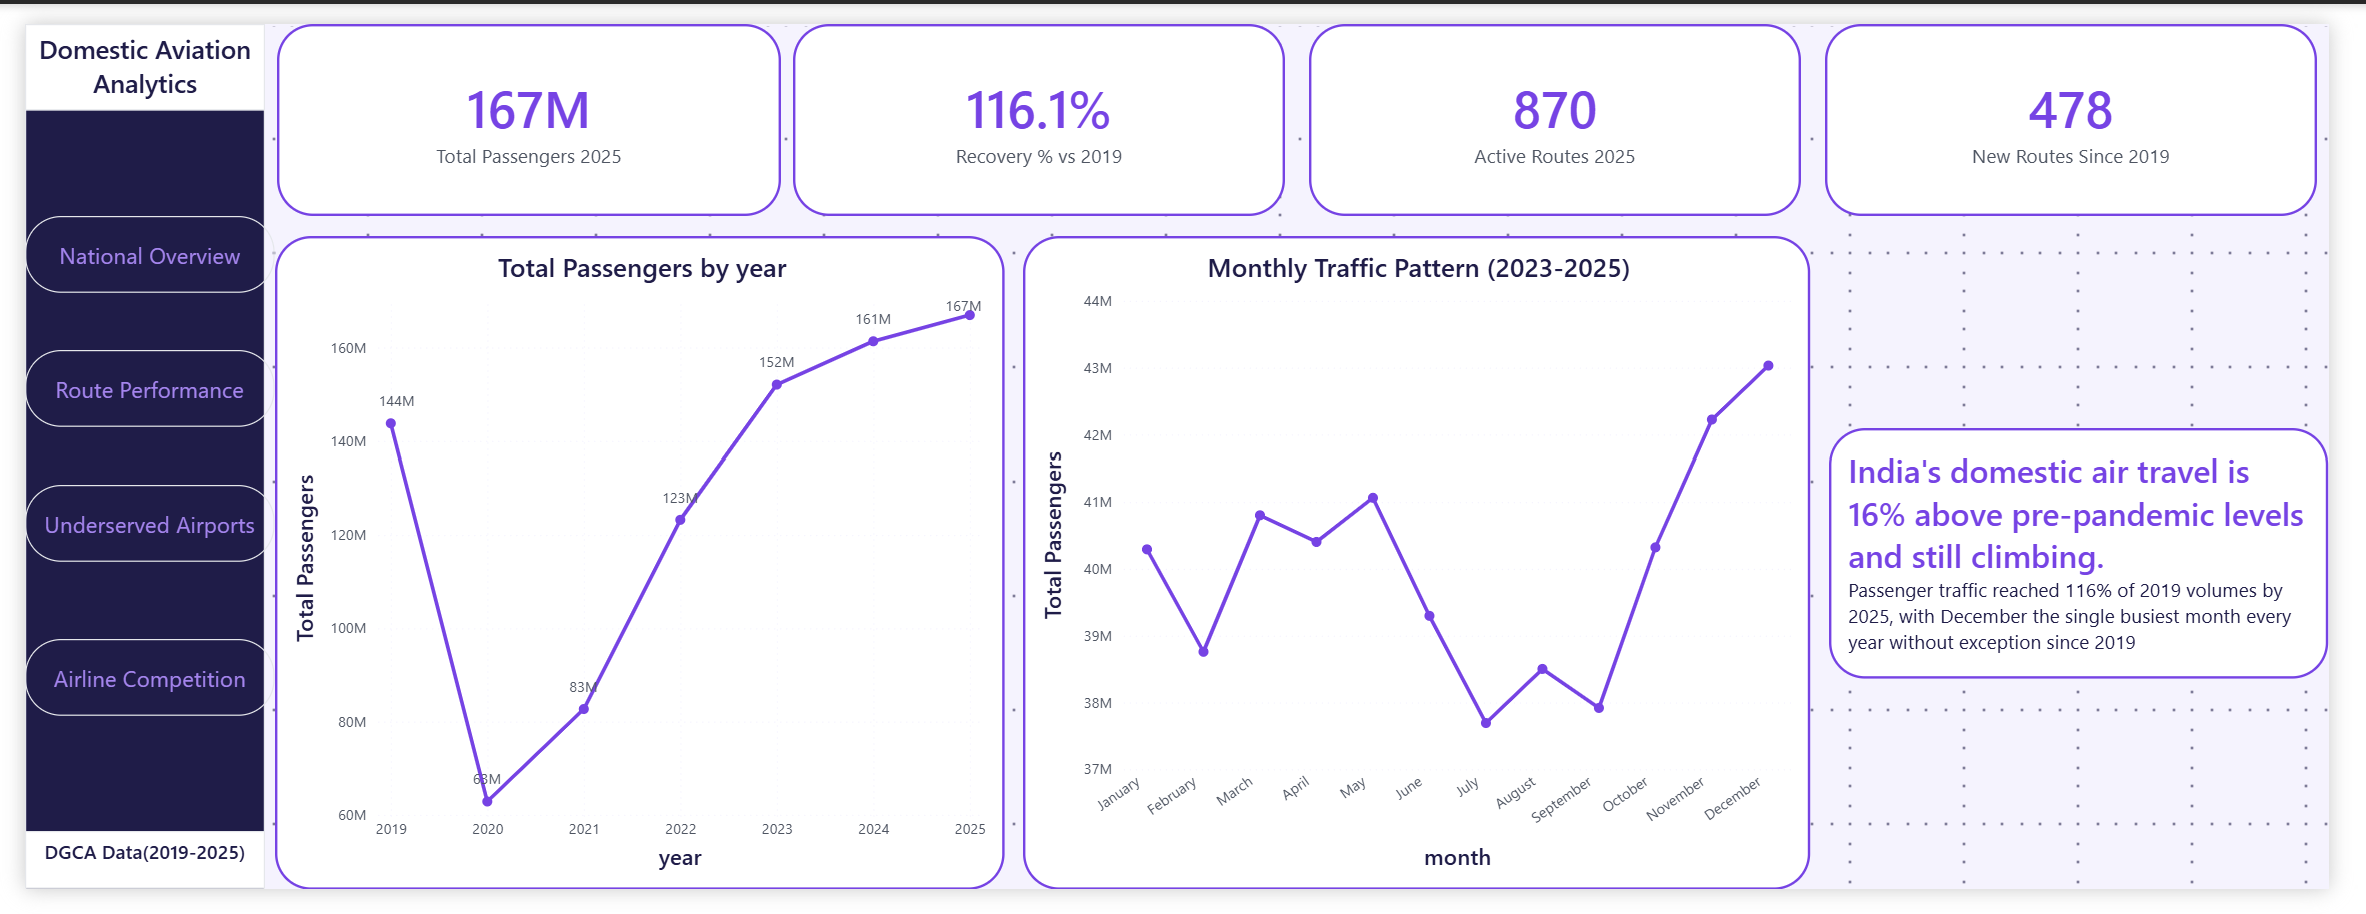

What the dashboard file says about the page in this screenshot:
{"tool":"powerbi","page":{"name":"Page 1","canvas":[1920,720],"ordinal":0},"visuals":[{"type":"shape","box":[0,0,200,768],"z":0},{"type":"actionButton","title":"Route Performance","box":[0,272,208,64],"z":1000},{"type":"actionButton","box":[0,160,208,64],"z":2000},{"type":"actionButton","title":"Route Performance","box":[0,384,208,64],"z":3000},{"type":"actionButton","title":"Route Performance","box":[0,512,208,64],"z":4000},{"type":"card","title":"Recovery % vs 2019","fields":{"Values":["master_citypair.Recovery % vs 2019"]},"box":[640,0,410,160],"z":5000},{"type":"card","fields":{"Values":["master_citypair.Active Routes 2025"]},"box":[1070,0,410,160],"z":6000},{"type":"card","fields":{"Values":["master_citypair.New Routes Since 2019"]},"box":[1500,0,410,160],"z":7000},{"type":"card","title":"Total Passengers 2025","fields":{"Values":["master_citypair.Total Passengers 2025"]},"box":[210,0,420,160],"z":8000},{"type":"lineChart","fields":{"Category":["master_citypair.year"],"Y":["master_citypair.Total Passengers"]},"box":[208,176,608,544],"z":9000},{"type":"lineChart","title":"Monthly Traffic Pattern (2023-2025)","fields":{"Category":["master_citypair.month"],"Y":["master_citypair.Total Passengers"]},"box":[832,176,656,544],"z":10000},{"type":"textbox","box":[1504,336,416,208],"z":11000},{"type":"textbox","box":[0,0,200,72],"z":12000},{"type":"textbox","box":[0,672,200,48],"z":13000}]}

Visuals, with their boxes in screenshot pixels (x1, y1, x2, y2), scaled from the page's 1920x720 canvas onto the 2366x914 screenshot:
shape: {"left": 0, "top": 0, "right": 246, "bottom": 913}
"Route Performance" actionButton: {"left": 0, "top": 345, "right": 256, "bottom": 427}
actionButton: {"left": 0, "top": 203, "right": 256, "bottom": 284}
"Route Performance" actionButton: {"left": 0, "top": 487, "right": 256, "bottom": 569}
"Route Performance" actionButton: {"left": 0, "top": 650, "right": 256, "bottom": 731}
"Recovery % vs 2019" card: {"left": 789, "top": 0, "right": 1294, "bottom": 203}
card - master_citypair.Active Routes 2025: {"left": 1319, "top": 0, "right": 1824, "bottom": 203}
card - master_citypair.New Routes Since 2019: {"left": 1848, "top": 0, "right": 2354, "bottom": 203}
"Total Passengers 2025" card: {"left": 259, "top": 0, "right": 776, "bottom": 203}
lineChart - master_citypair.year x master_citypair.Total Passengers: {"left": 256, "top": 223, "right": 1006, "bottom": 913}
"Monthly Traffic Pattern (2023-2025)" lineChart: {"left": 1025, "top": 223, "right": 1834, "bottom": 913}
textbox: {"left": 1853, "top": 427, "right": 2365, "bottom": 691}
textbox: {"left": 0, "top": 0, "right": 246, "bottom": 91}
textbox: {"left": 0, "top": 853, "right": 246, "bottom": 913}
